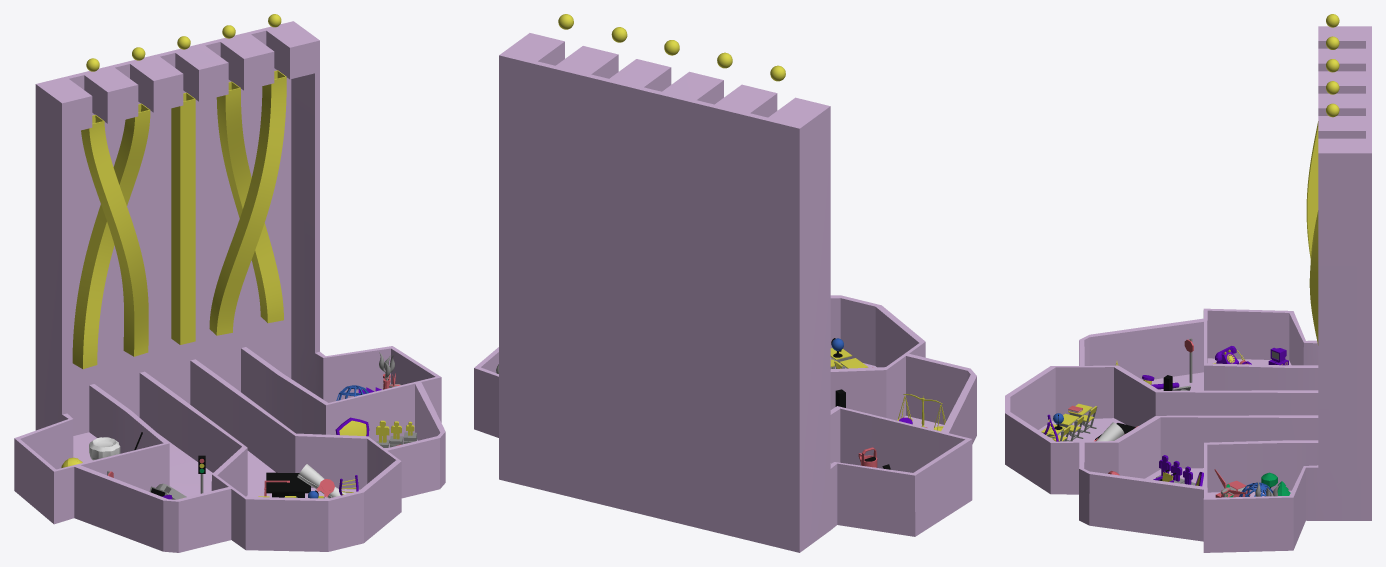
The model's file is 020-importance_politics.glb.
3 renders of one model, left to right at view 1: azimuth 30°, elevation 25°; view 2: azimuth 150°, elevation 25°; view 3: azimuth 270°, elevation 25°, orthographic. The views are drawn at different scales.
Parts seen in each view (by area): view 1: GEO.Plinko.board.002; view 2: GEO.Plinko.board.002; view 3: GEO.Plinko.board.002.
Boxes of the visible parts, box(x1,y1,x2,y2) form: GEO.Plinko.board.002: box(14, 21, 445, 552); GEO.Plinko.board.002: box(474, 33, 976, 552); GEO.Plinko.board.002: box(1005, 26, 1371, 552).
Size of the model in its own units: 1.75 by 1.7 by 1.42.
